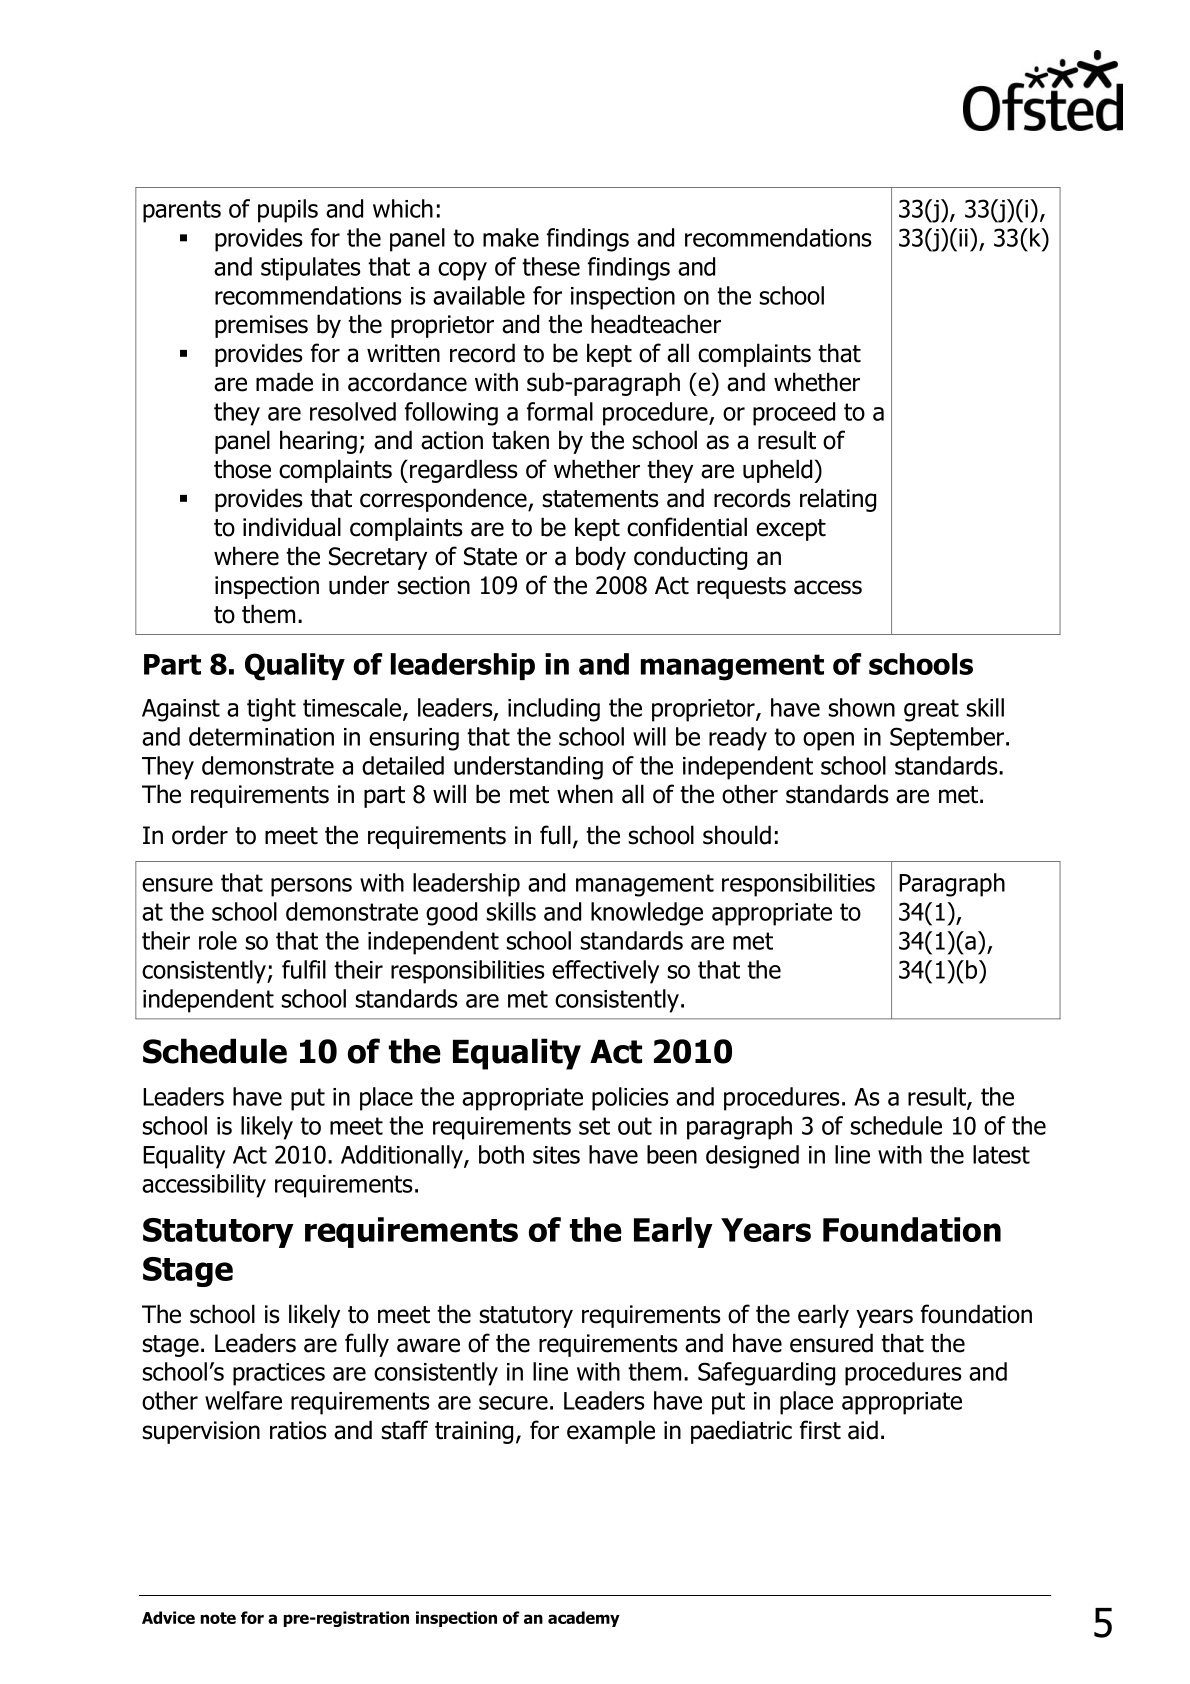full_lined: (135, 187, 1061, 635), (135, 861, 1061, 1020)
